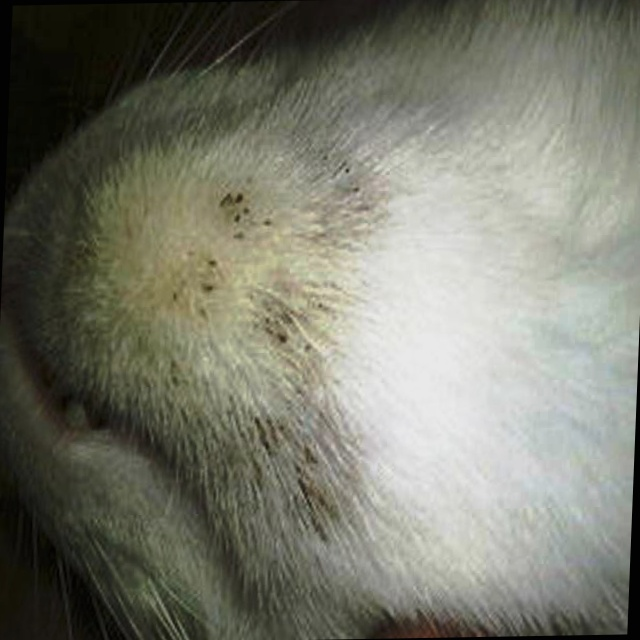acne: (157, 185, 336, 353)
